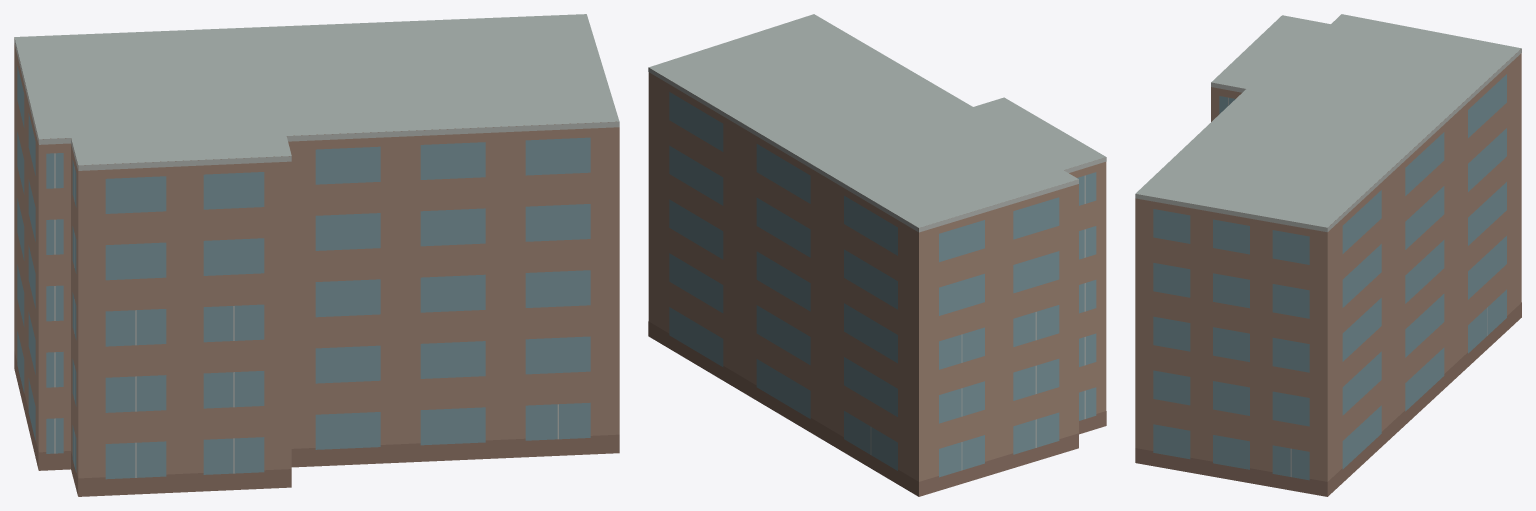
File: survey-upis-32481954.glb
3 renders of one model, left to right at view 1: azimuth 30°, elevation 25°; view 2: azimuth 150°, elevation 25°; view 3: azimuth 270°, elevation 25°, orthographic. The views are drawn at different scales.
Parts seen in each view (by area): view 1: survey-upis-32481954.tmp; view 2: survey-upis-32481954.tmp; view 3: survey-upis-32481954.tmp.
Part boxes in pixels (x1,y1,x2,y2): survey-upis-32481954.tmp: [14, 14, 619, 496]; survey-upis-32481954.tmp: [648, 14, 1106, 496]; survey-upis-32481954.tmp: [1135, 14, 1521, 496].
Size of the model in its own units: 24.53 by 14.4 by 18.75.
